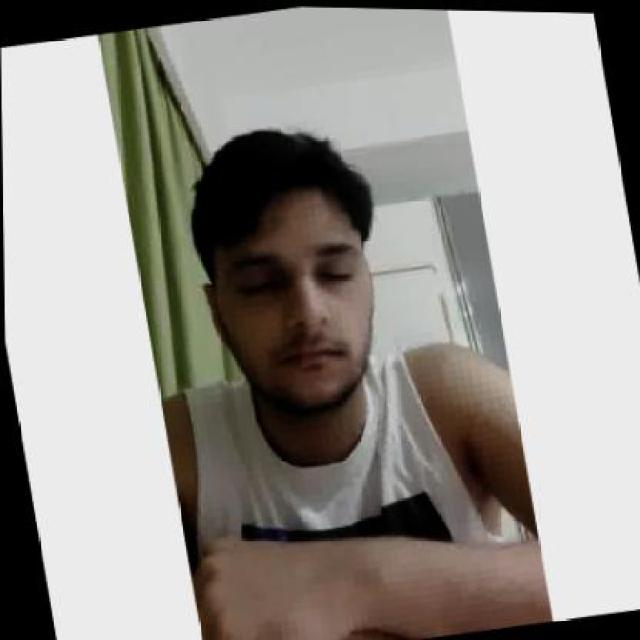inattentif: (175, 109, 394, 431)
